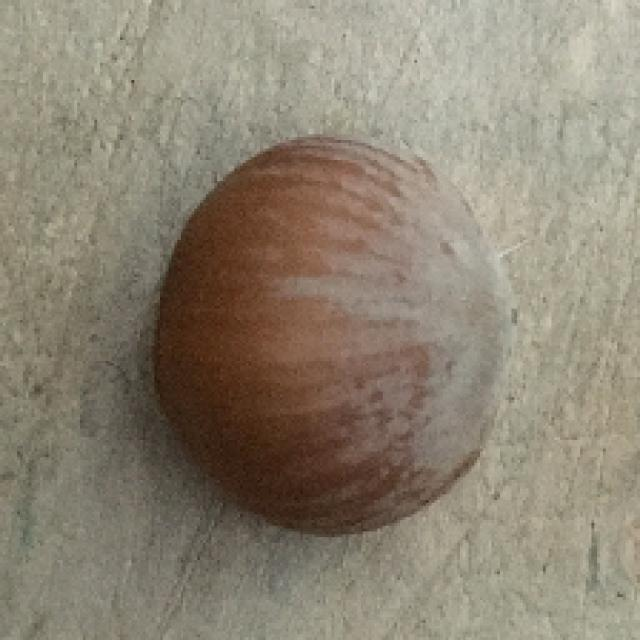qualityHazelnut: (149, 128, 528, 554)
